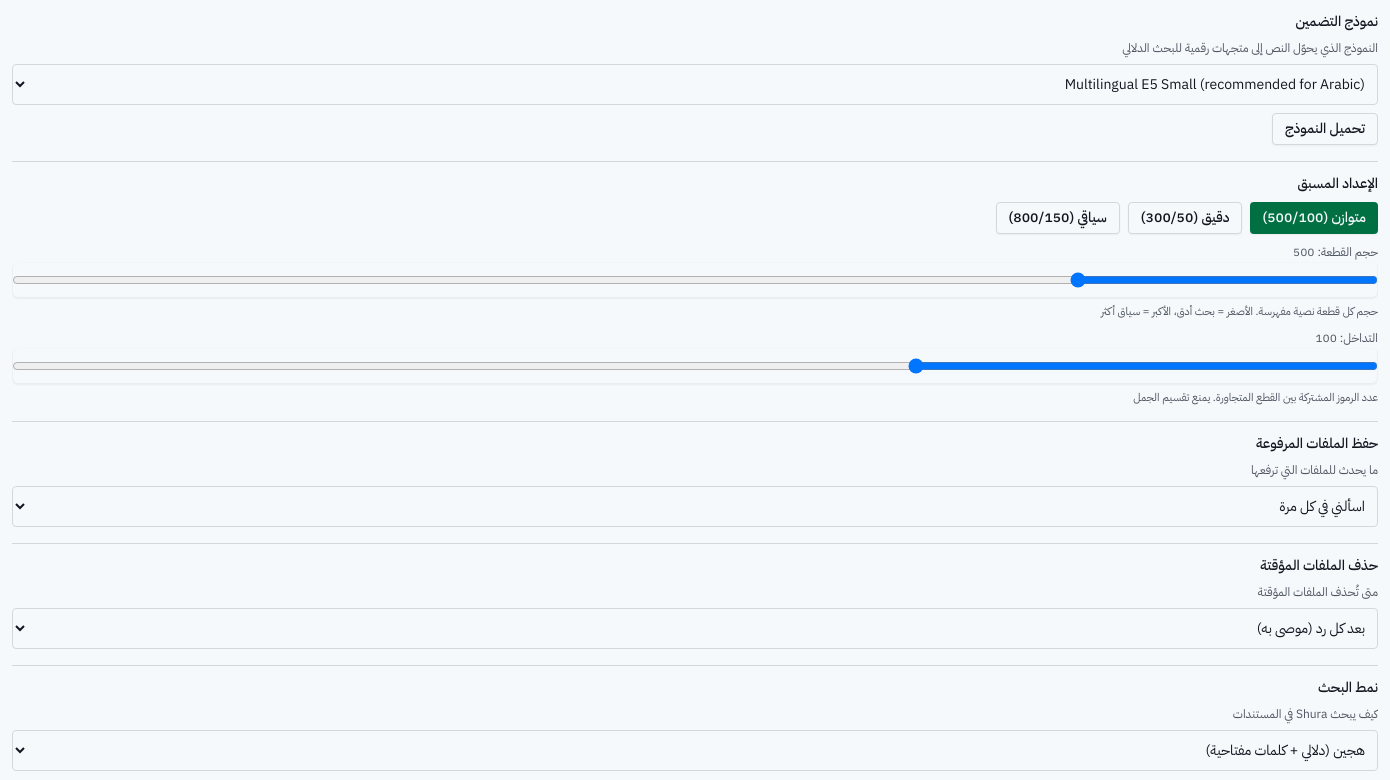
Test: RagSettings › أزرار الإعداد المسبق تضبط حجم القطعة والتداخل
This screenshot has width=1390, height=780.
Step 1. Click the button "دقيق (300/50)" → {"x": 1185, "y": 218}, box [1128,202,1242,234]
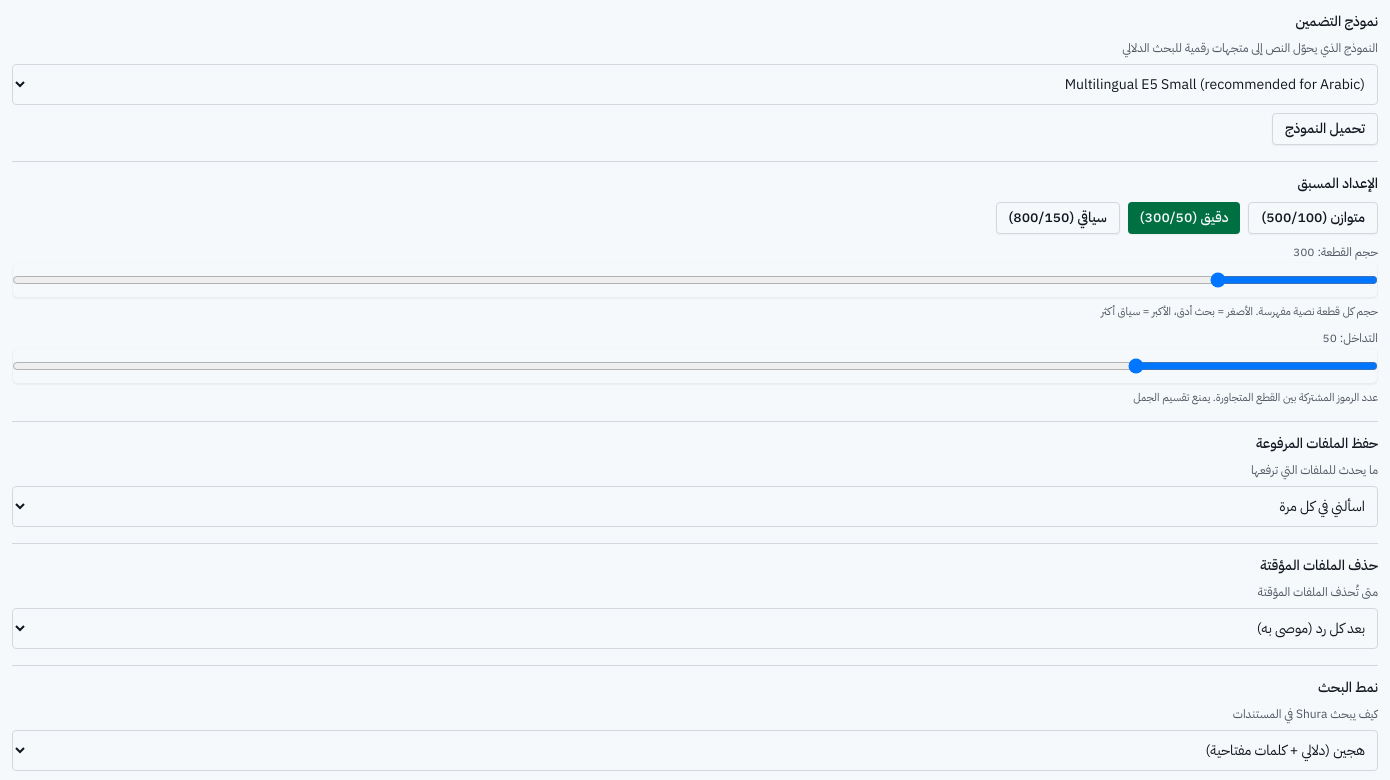
Result: the text "حجم القطعة: 300" is shown at [1293,243,1378,261]
Result: the text "التداخل: 50" is shown at [1322,329,1378,347]
Step 2. Click the button "سياقي (800/150)" → {"x": 1058, "y": 218}, box [996,202,1120,234]
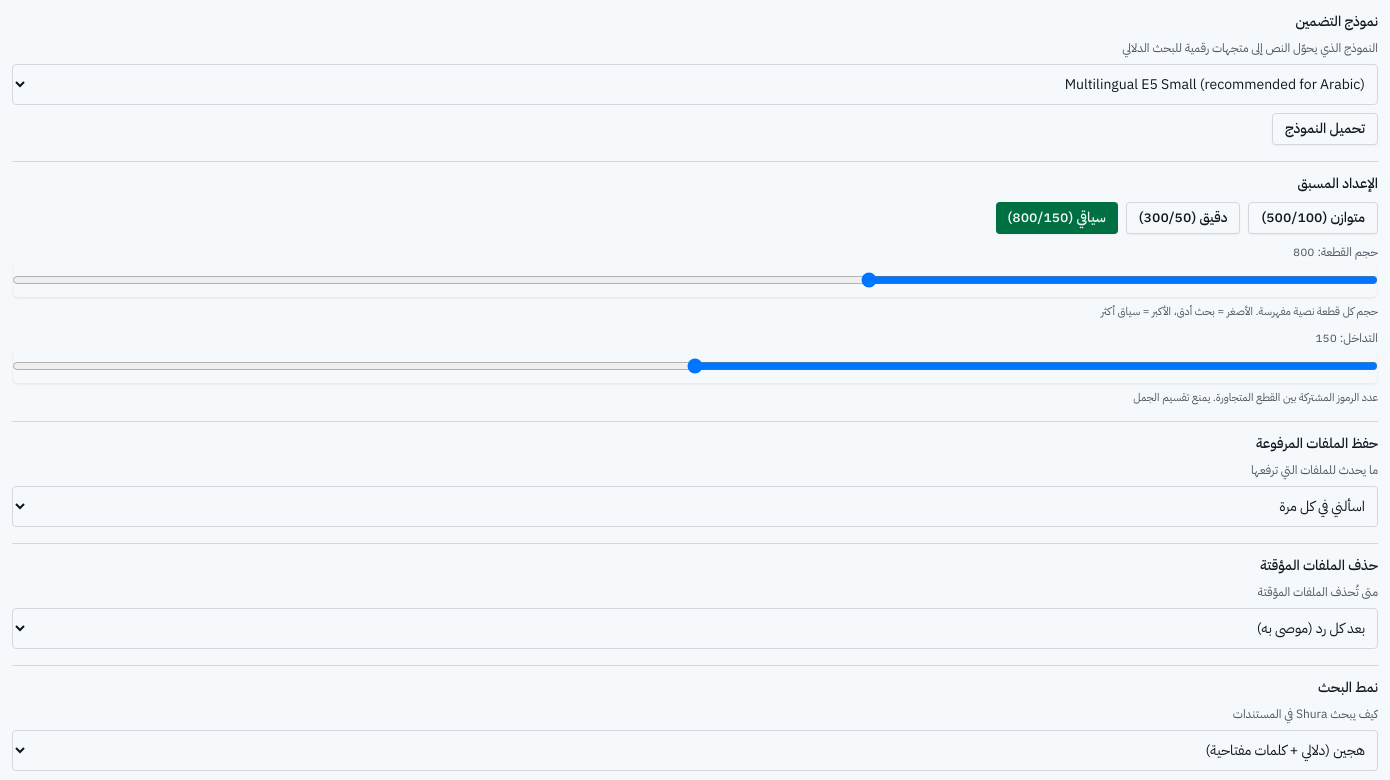
Result: the text "حجم القطعة: 800" is shown at [1293,243,1378,261]
Result: the text "التداخل: 150" is shown at [1315,329,1378,347]
Step 3. Click the button "متوازن (500/100)" → {"x": 1313, "y": 218}, box [1248,202,1378,234]
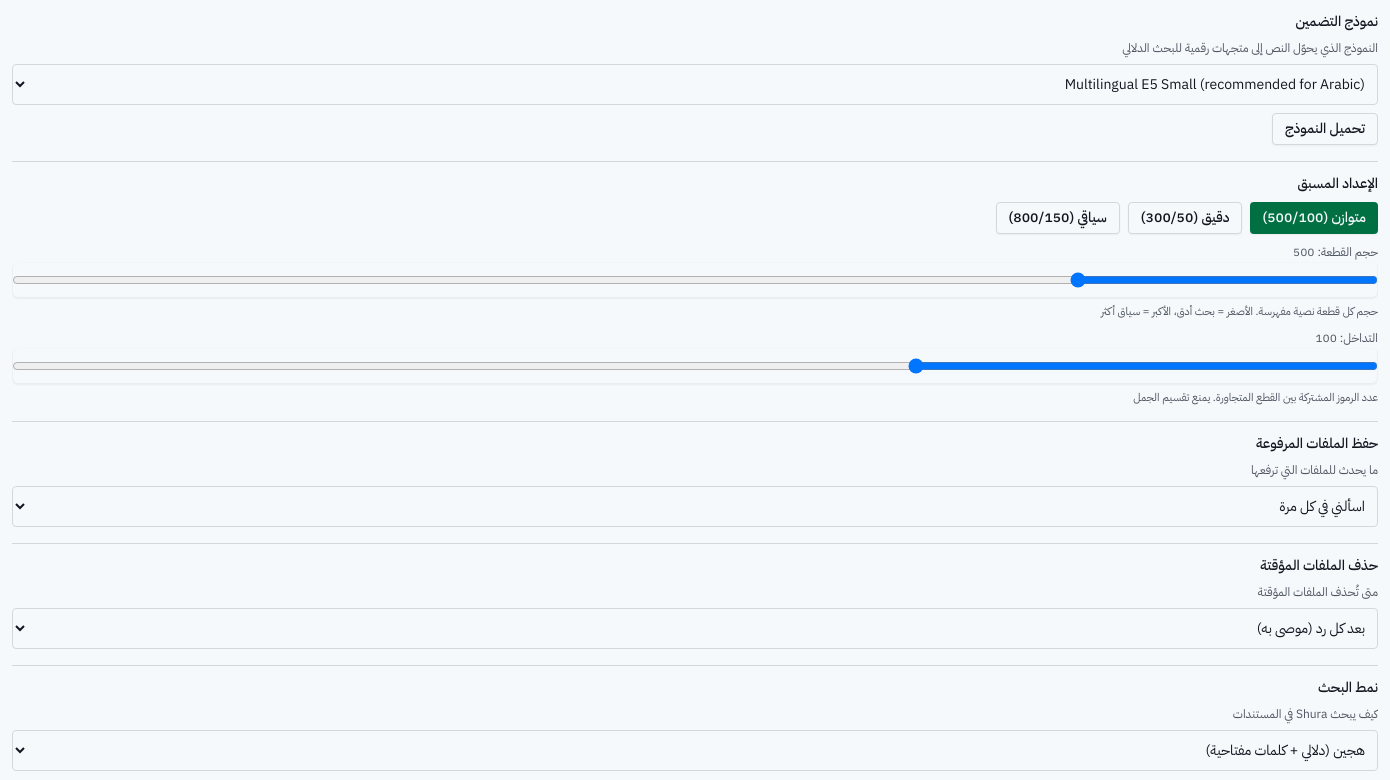
Result: the text "حجم القطعة: 500" is shown at [1293,243,1378,261]
Result: the text "التداخل: 100" is shown at [1315,329,1378,347]
